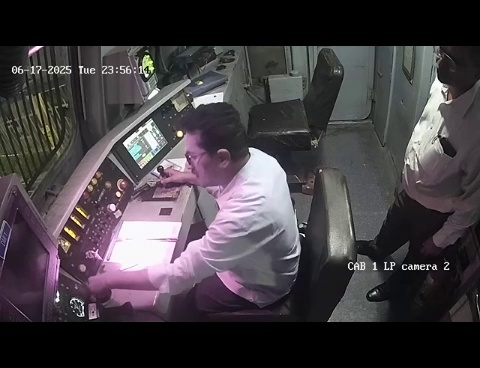horn_active: (77, 261, 129, 311)
